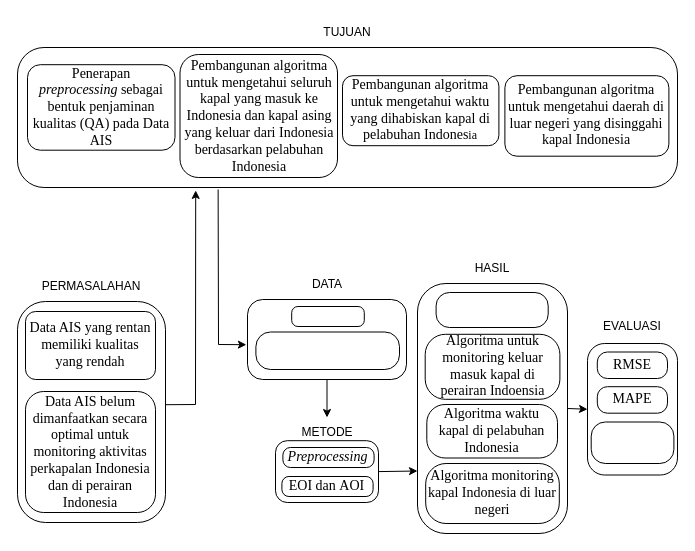
Some shapes in this 695 by 551 pixel diagram are drawn without their labels. Each missing label, with the centre of its shape:
"Data AIS" belongs at [327,316].
"Data Official Statistics maritim" belongs at [327,350].
"Penjaminan kualitas data AIS" belongs at [491,310].
"Perbandingan Deskriptif" belongs at [632,442].
